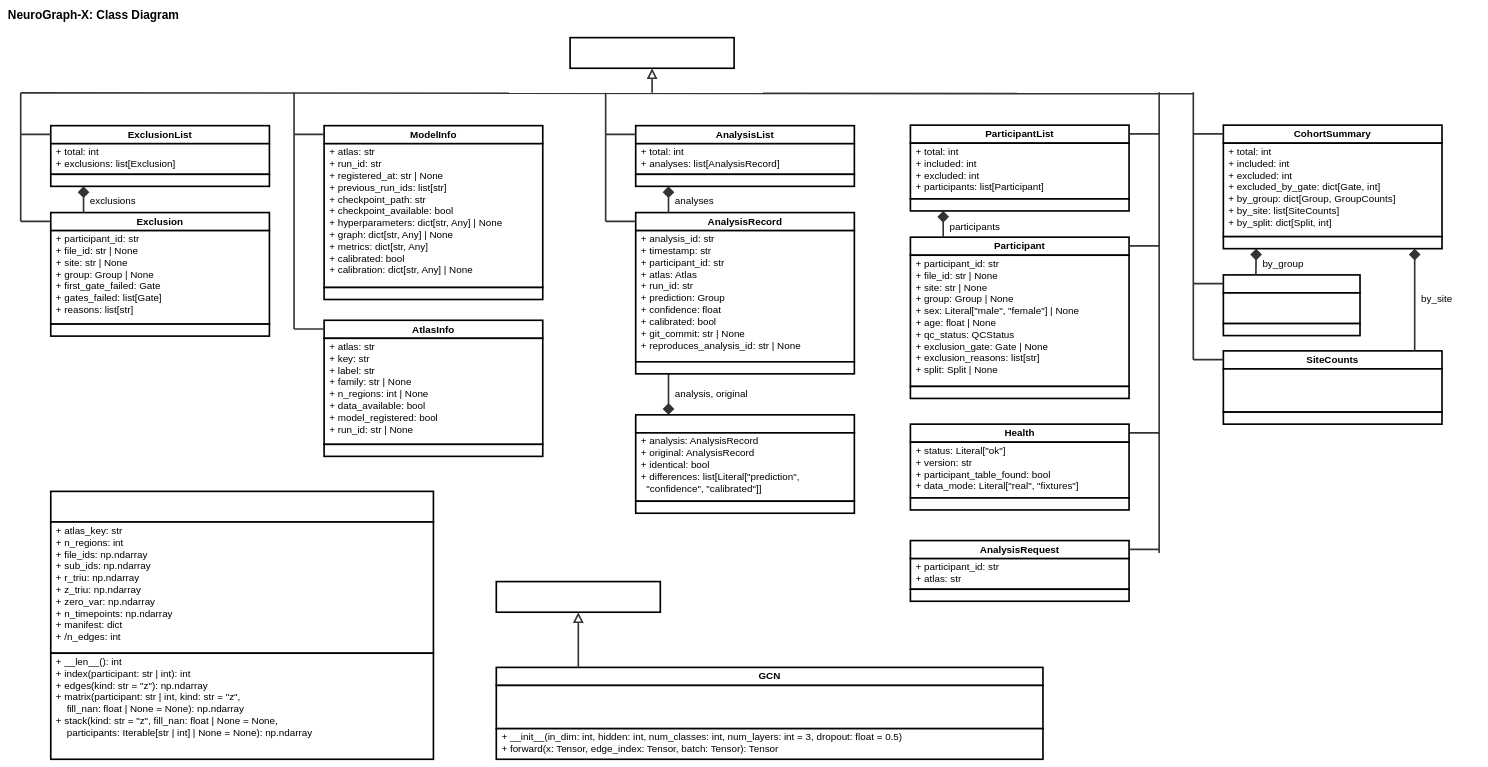
The diagram is 1488 pixels wide and 767 high, and some of its shapes have lost their labels. Here are the shapes that lost their labels. From the top down, the centre of each, then its label:
At [652,53]: "«pydantic» BaseModel".
At [1291,284]: "GroupCounts".
At [1291,308]: "+ included: int + excluded: int".
At [1332,390]: "+ site: str + included: int + excluded: int".
At [745,423]: "RegenerateResult".
At [242,506]: "«dataclass» ConnectomeSet".
At [578,597]: "«torch.nn» Module".
At [769,706]: "+ convs: ModuleList + head: Sequential + dropout: float".
